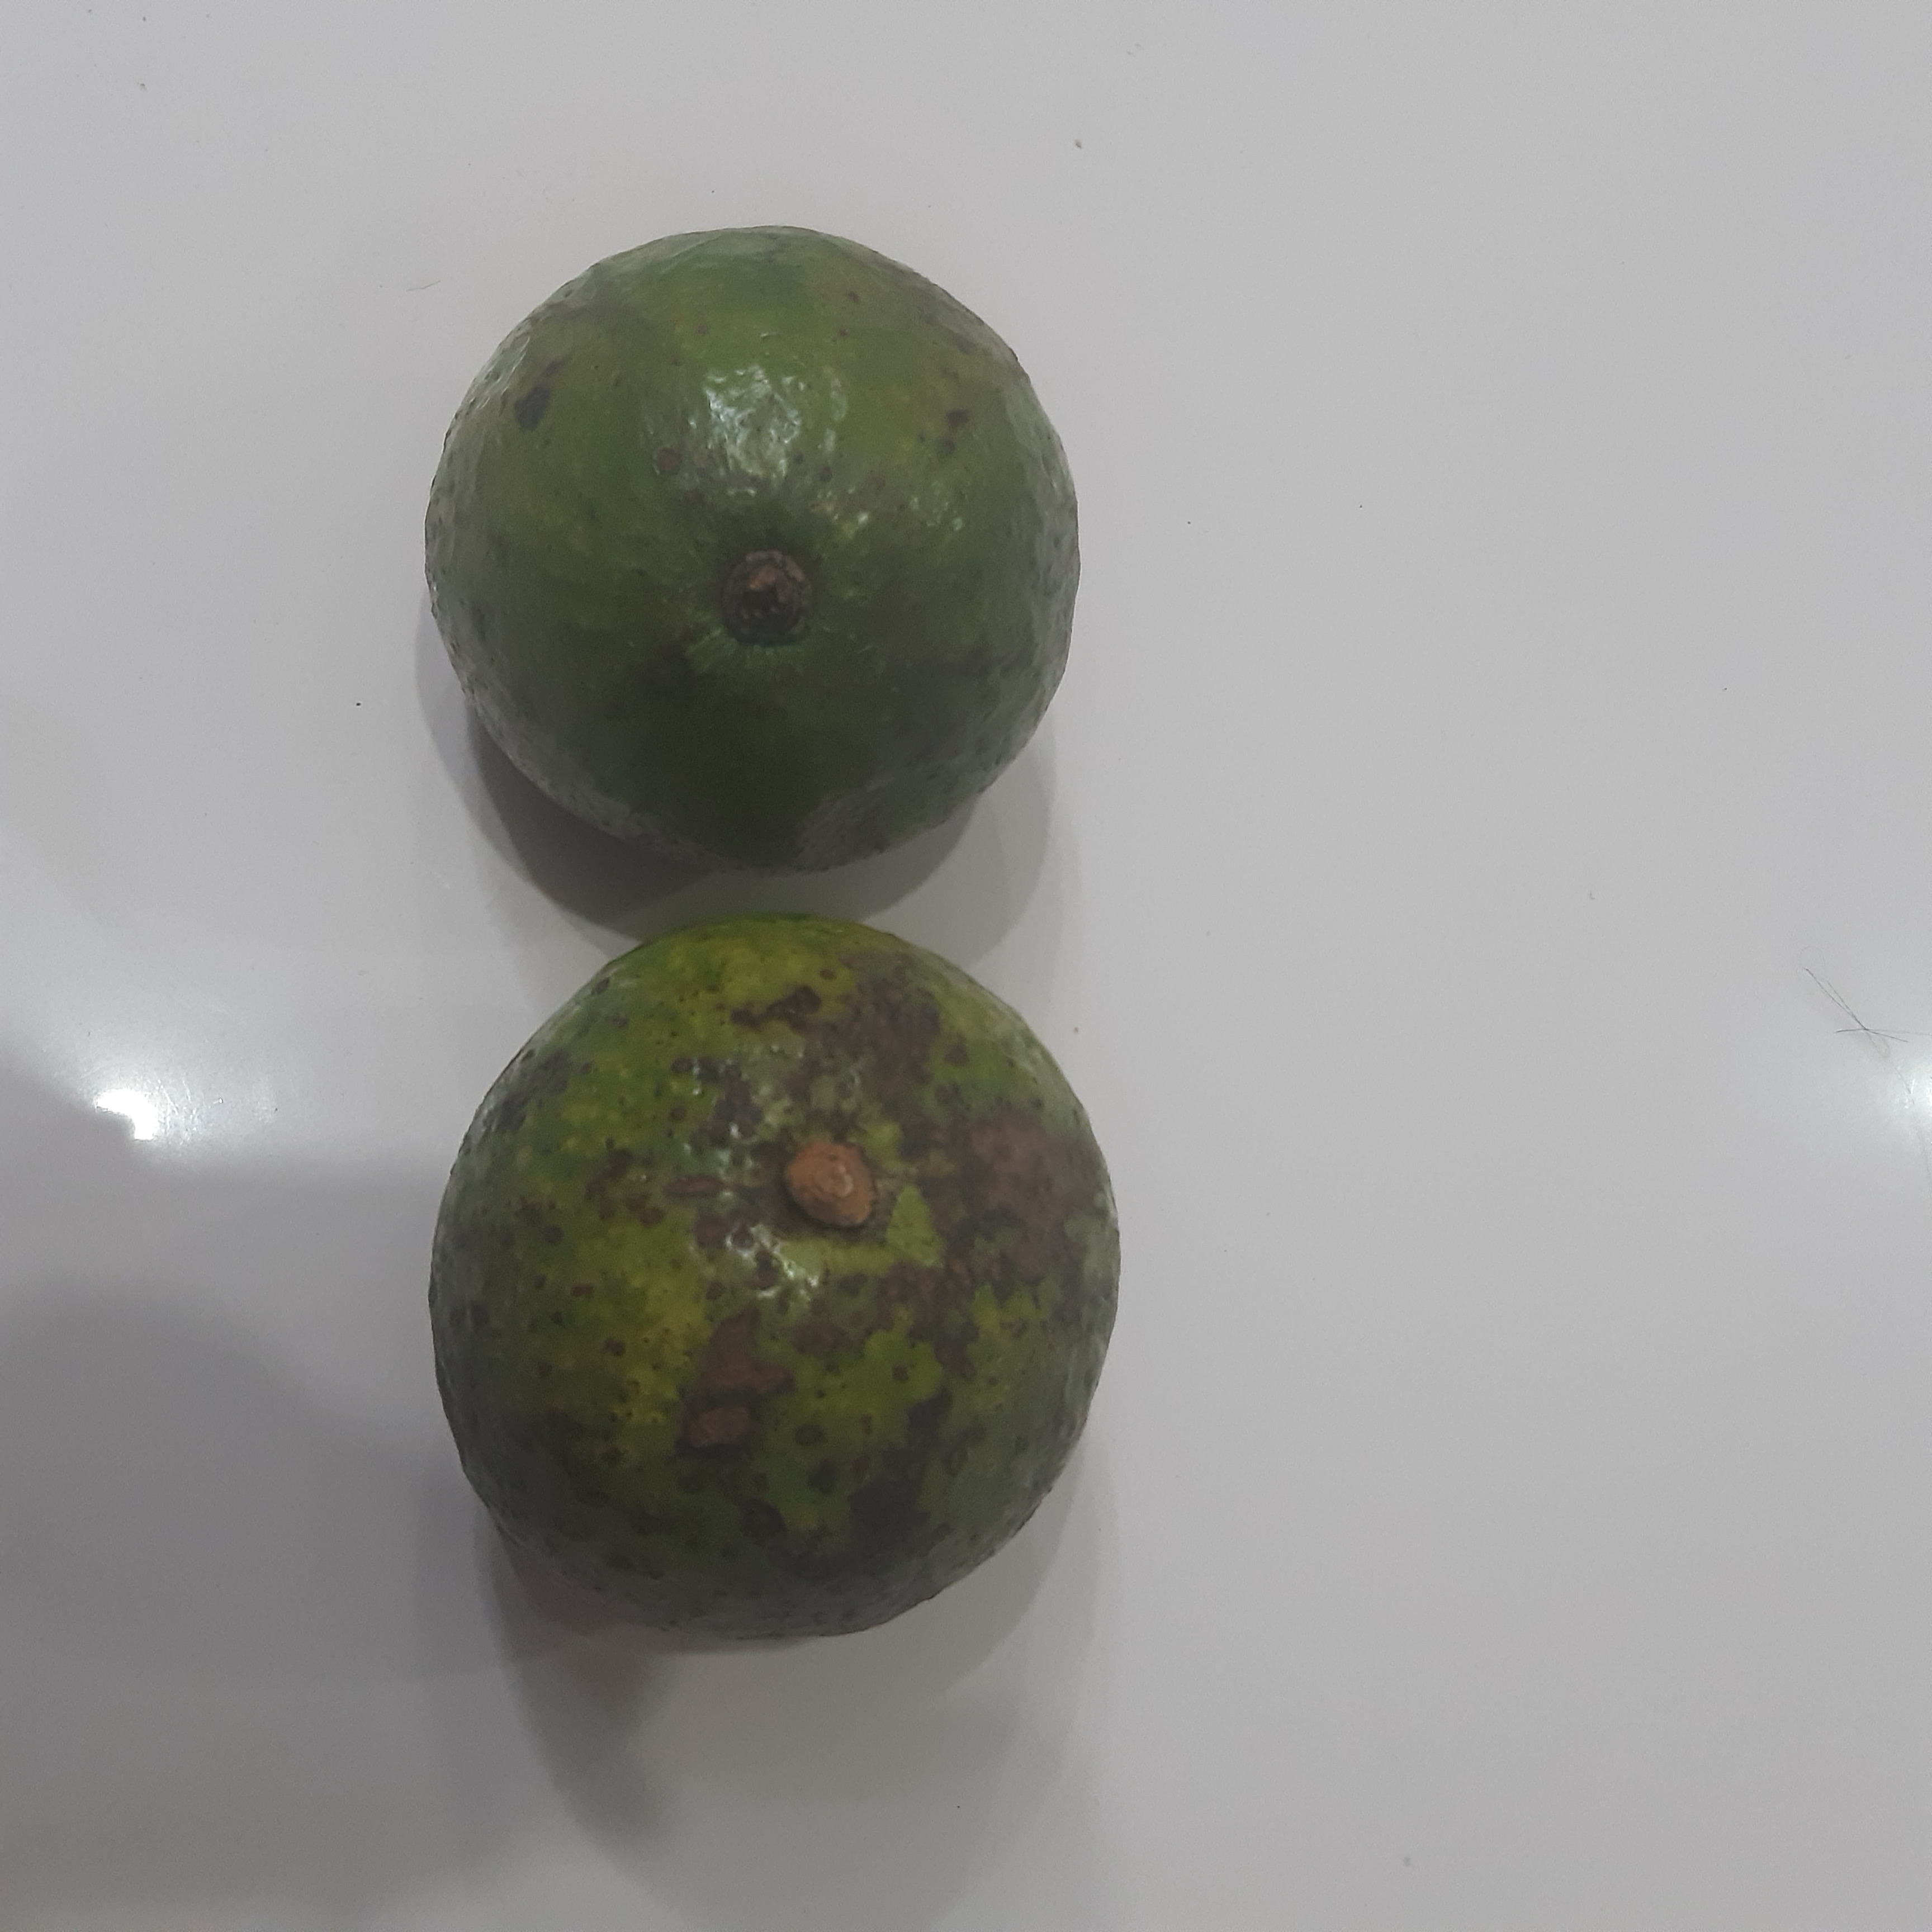Bo: (416, 908, 1125, 1651), (416, 223, 1083, 879)
